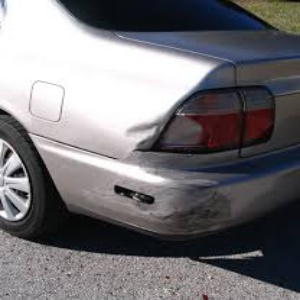bumper: (1, 190, 161, 282)
